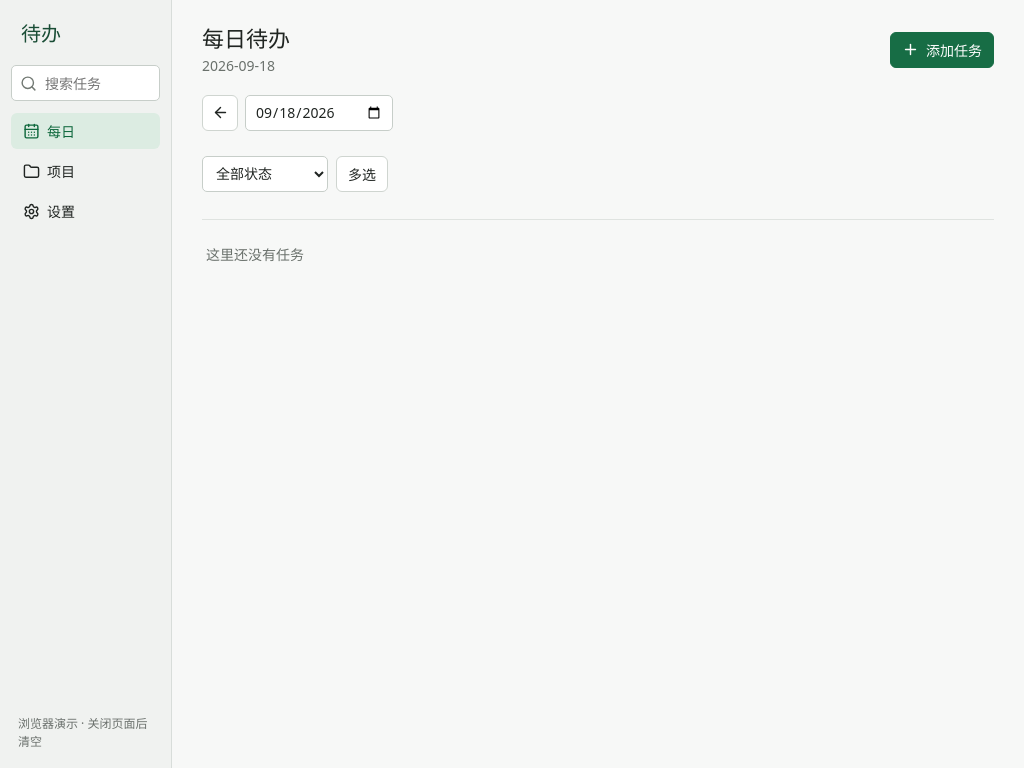
it: a project link context menu lists 重命名 and 删除
The width and height of the screenshot is (1024, 768).
Click the tab "项目": {"x": 86, "y": 171} [11, 153, 160, 189]
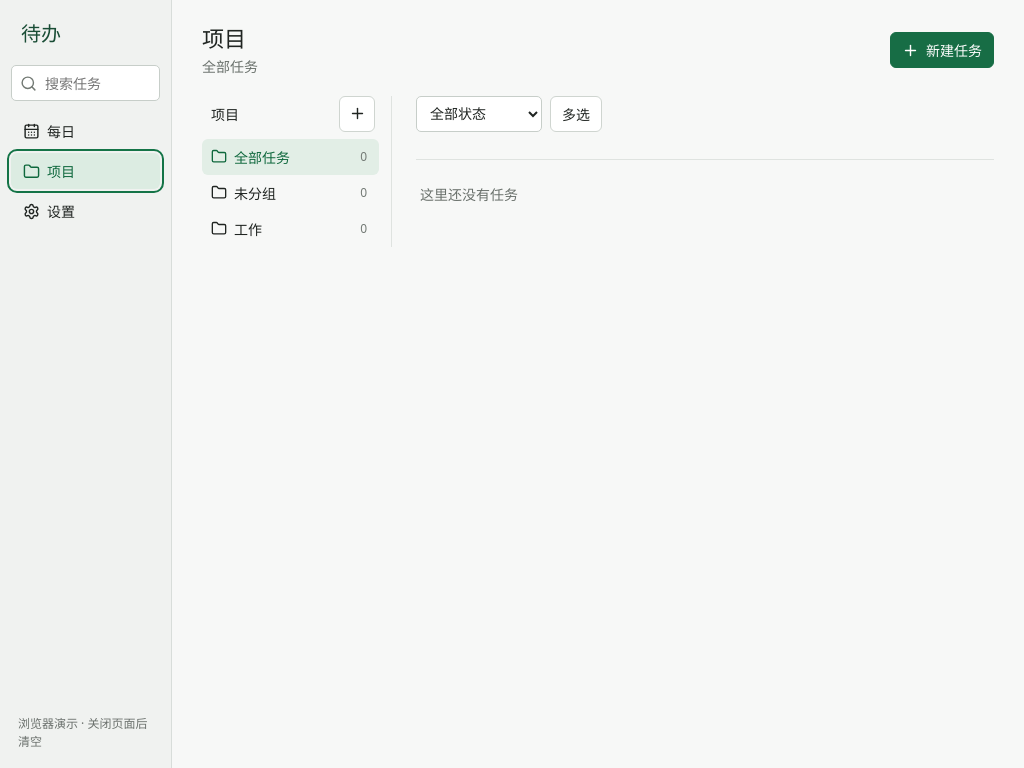
Right-click the button "工作 0": {"x": 290, "y": 228} [202, 210, 379, 246]
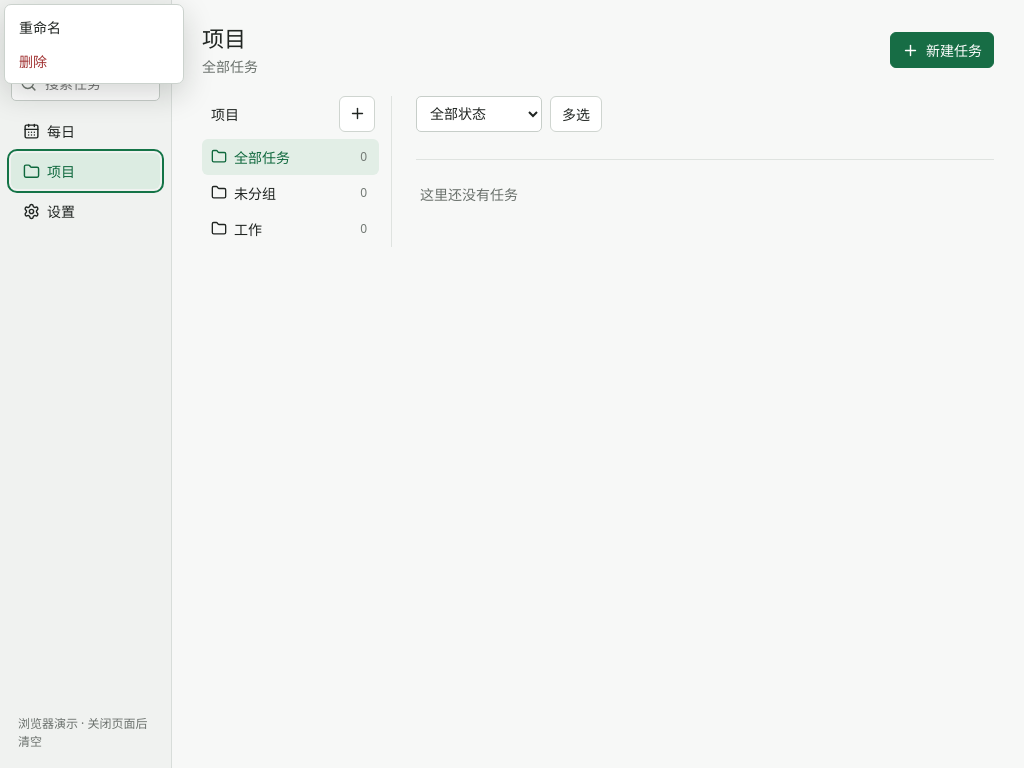
Now the menu item "重命名" is shown, box [10, 10, 178, 44]
Now the menu item "删除" is shown, box [10, 44, 178, 78]
